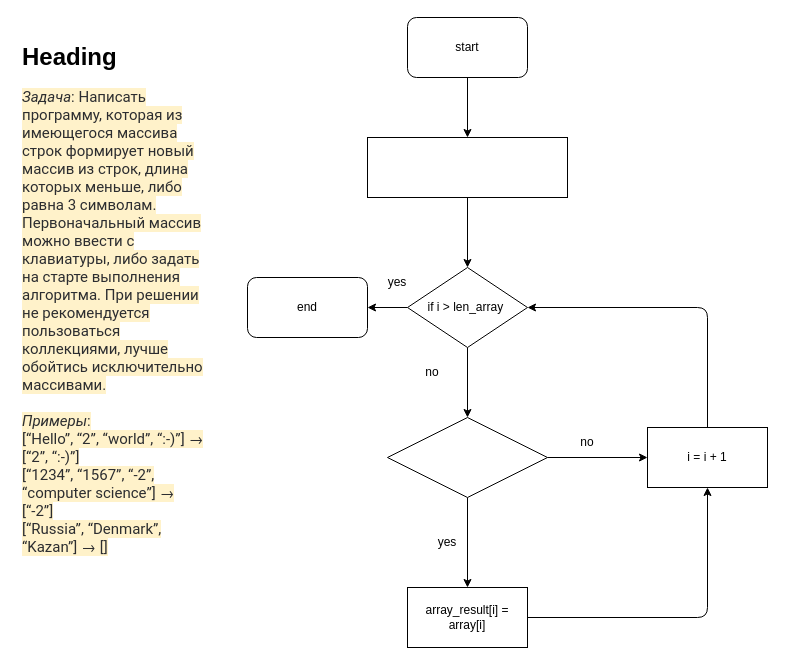
Image size: 785x665. Some labels were removed from this diagram. Here are the shapes that lost their labels. From the top down, the centre of each, then its label:
At point 467,167: "array[] array_result= [] len_arrey = len(array) i = 0".
At point 467,457: "if len(array[i]) < 4".
